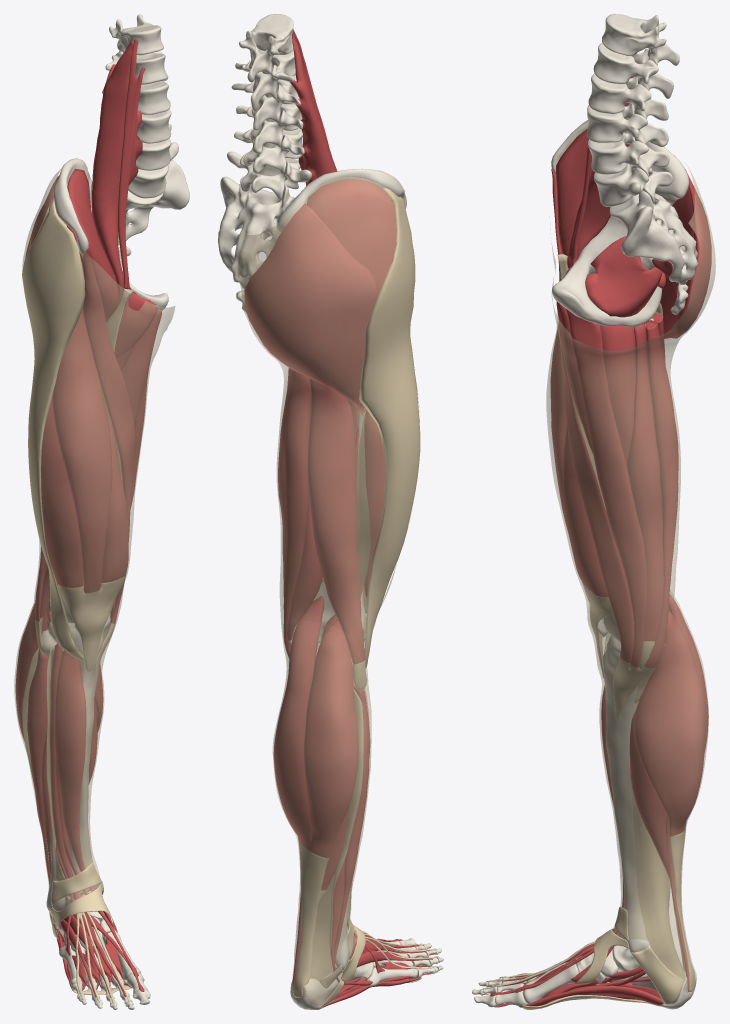
File: lower-limb.glb
3 renders of one model, left to right at view 1: azimuth 30°, elevation 25°; view 2: azimuth 150°, elevation 25°; view 3: azimuth 270°, elevation 25°, orthographic. The views are drawn at different scales.
Visible parts, largest first — view 1: Fascia lata.r, Crural fascia.r, Iliotibial tract.r, Rectus femoris.r, Psoas major.r, Tibialis anterior muscle.r, Sartorius muscle.r, Vastus lateralis muscle.r, Quadriceps common tendon and patellar ligament.r, Fibularis longus muscle.r, Iliacus muscle.r, Tibia.r (+28 smaller); view 2: Fascia lata.r, Crural fascia.r, Gluteus maximus muscle.r, Iliotibial tract.r, Long head of biceps femoris.r, Lateral head of gastrocnemius.r, Medial head of gastrocnemius.r, Gluteus medius muscle.r, Gluteal aponeurosis.r, Semitendinosus muscle.r, Sacrum, Semimembranosus muscle.r (+23 smaller); view 3: Fascia lata.r, Crural fascia.r, Medial head of gastrocnemius.r, Gracilis muscle.r, Semimembranosus muscle.r, Sartorius muscle.r, Tibia.r, Hip bone.r, Semitendinosus muscle.r, Sacrum, Transverse intermuscular septum of leg.r, Obturator internus.r (+26 smaller).
Part boxes in pixels (x1,y1,x2,y2): Fascia lata.r: [22, 215, 175, 642]; Crural fascia.r: [14, 598, 116, 926]; Iliotibial tract.r: [22, 197, 85, 660]; Rectus femoris.r: [52, 307, 112, 593]; Psoas major.r: [91, 40, 142, 309]; Tibialis anterior muscle.r: [54, 650, 117, 932]; Sartorius muscle.r: [79, 248, 135, 623]; Vastus lateralis muscle.r: [41, 395, 83, 587]; Quadriceps common tendon and patellar ligament.r: [58, 576, 125, 671]; Fibularis longus muscle.r: [27, 649, 64, 942]; Iliacus muscle.r: [67, 168, 118, 321]; Tibia.r: [48, 615, 110, 896]; Fascia lata.r: [238, 197, 419, 646]; Crural fascia.r: [272, 619, 371, 1005]; Gluteus maximus muscle.r: [244, 204, 377, 416]; Iliotibial tract.r: [359, 188, 420, 667]; Long head of biceps femoris.r: [307, 378, 364, 664]; Lateral head of gastrocnemius.r: [304, 619, 358, 858]; Medial head of gastrocnemius.r: [273, 596, 324, 850]; Gluteus medius muscle.r: [306, 179, 396, 296]; Gluteal aponeurosis.r: [307, 177, 396, 290]; Semitendinosus muscle.r: [283, 370, 311, 658]; Sacrum: [218, 176, 294, 289]; Semimembranosus muscle.r: [278, 369, 322, 640]; Fascia lata.r: [546, 163, 715, 656]; Crural fascia.r: [594, 590, 708, 992]; Medial head of gastrocnemius.r: [634, 610, 705, 836]; Gracilis muscle.r: [566, 309, 647, 667]; Semimembranosus muscle.r: [626, 323, 671, 641]; Sartorius muscle.r: [551, 168, 634, 663]; Tibia.r: [603, 635, 650, 955]; Hip bone.r: [551, 120, 688, 326]; Semitendinosus muscle.r: [644, 320, 678, 668]; Sacrum: [609, 168, 697, 284]; Transverse intermuscular septum of leg.r: [630, 778, 684, 978]; Obturator internus.r: [585, 236, 662, 317].
Bounding box in the file's own units: 0.2234 × 1.16 × 0.2507.
